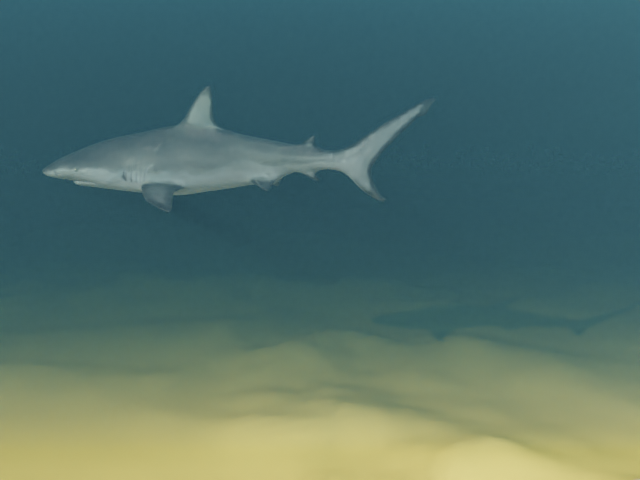Carribean Shark.001: (42, 85, 435, 211)
